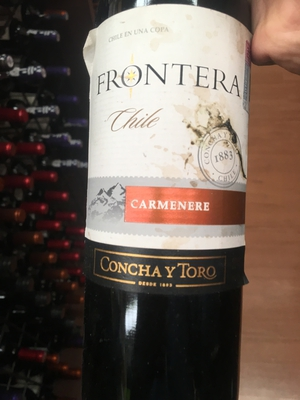frontera carmenere: (83, 6, 255, 385)
